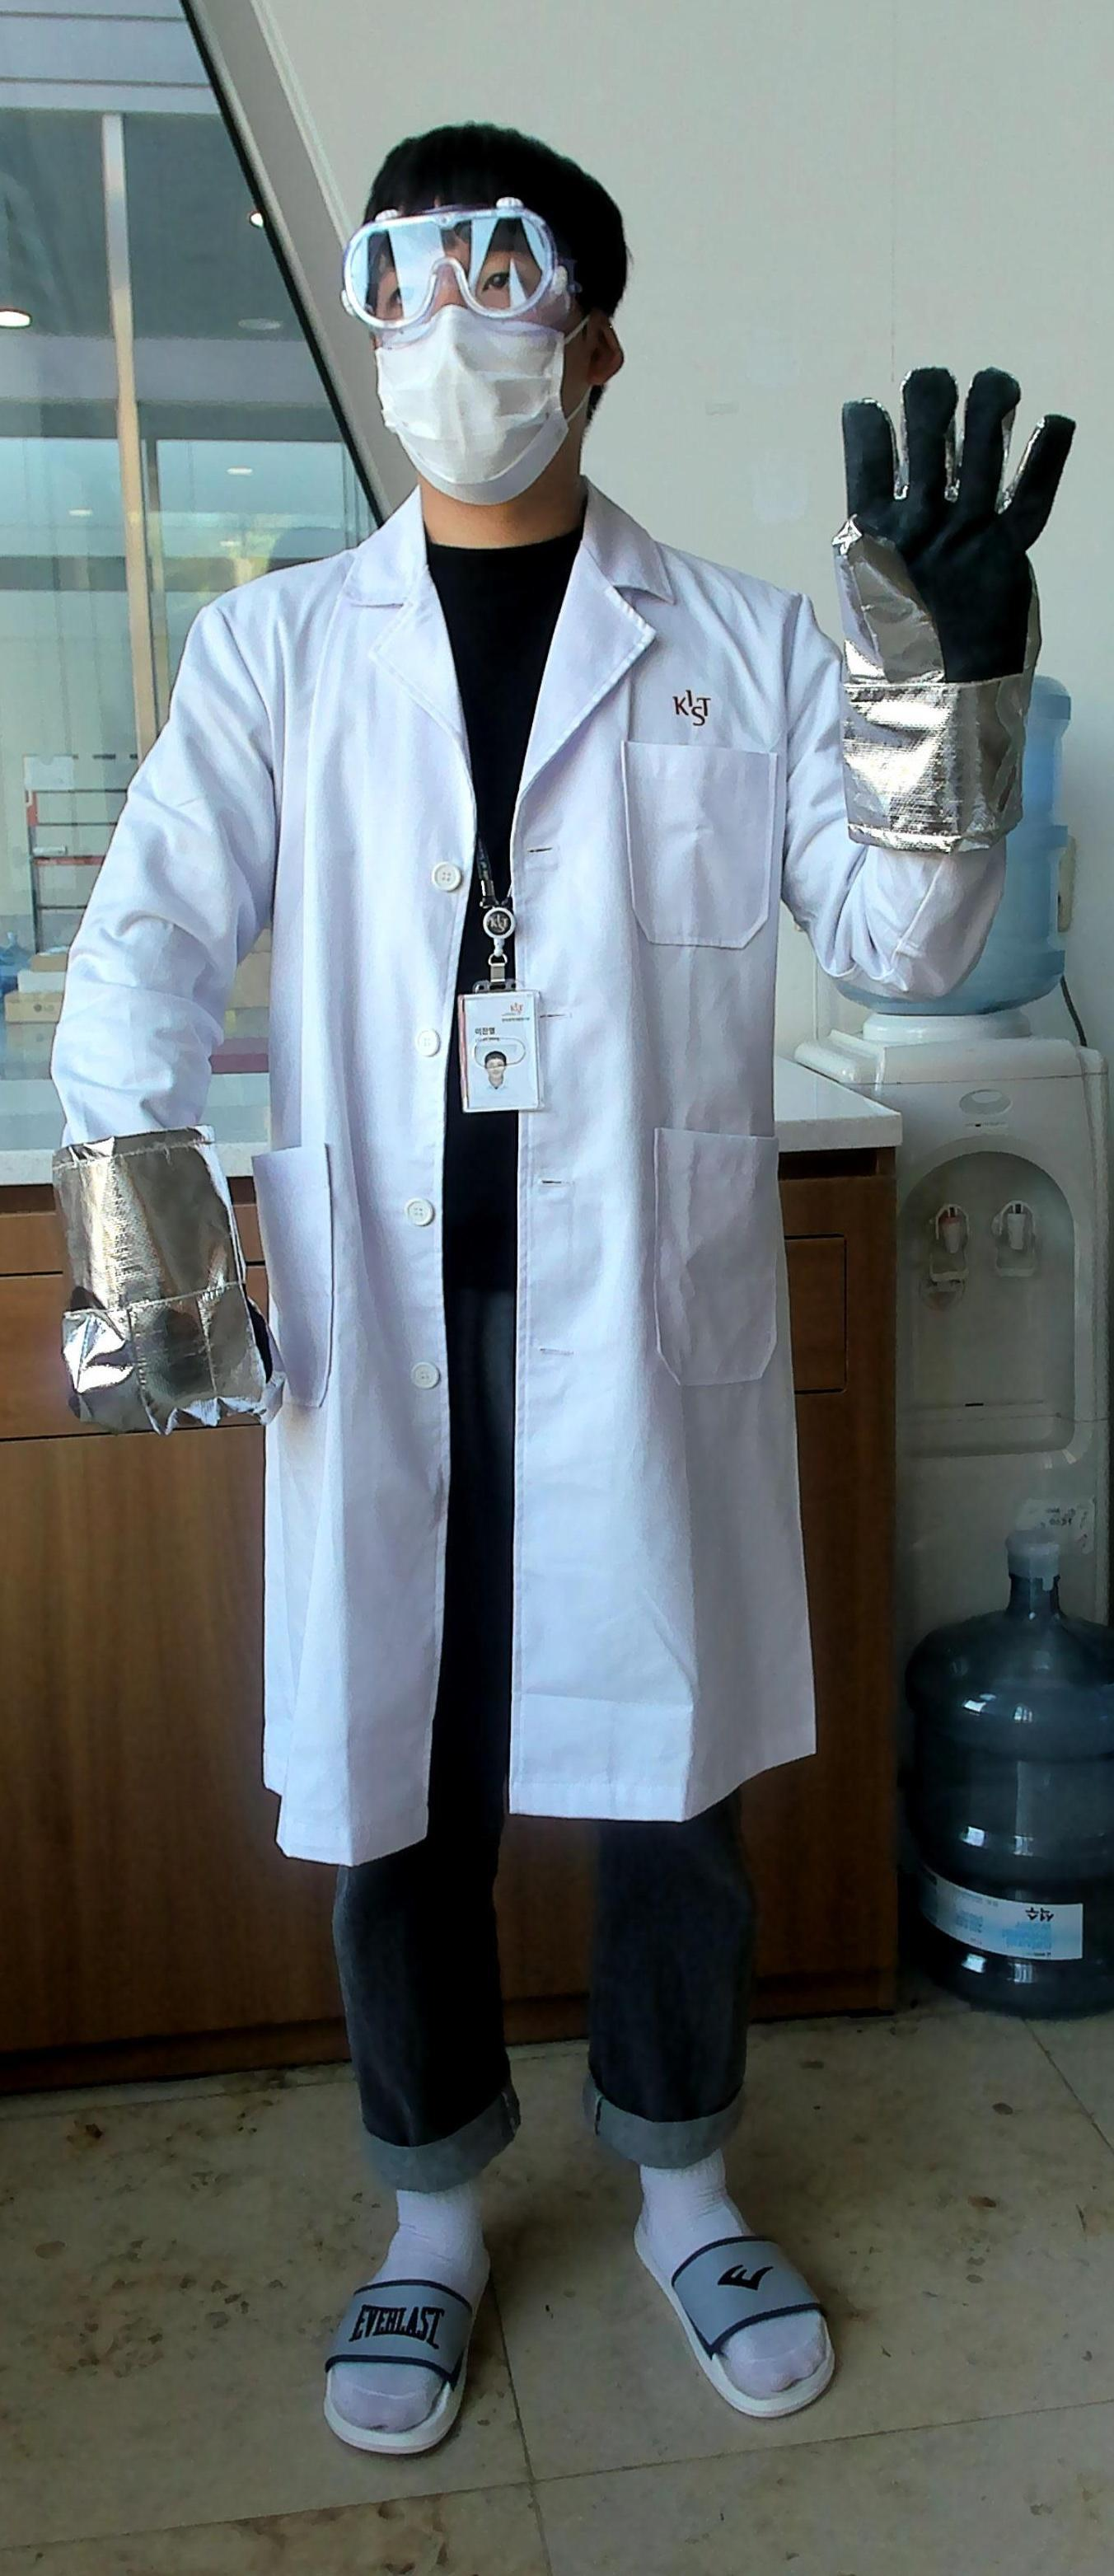lab_coat: (268, 554, 825, 1827)
